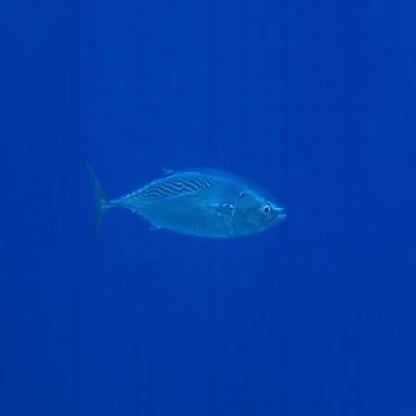Scombridae -Tunas-: (75, 145, 293, 256)
